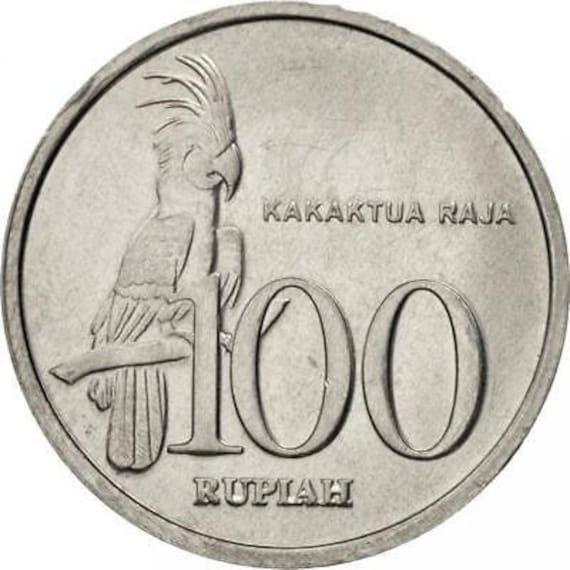coin_100_e1999: (2, 0, 570, 570)
